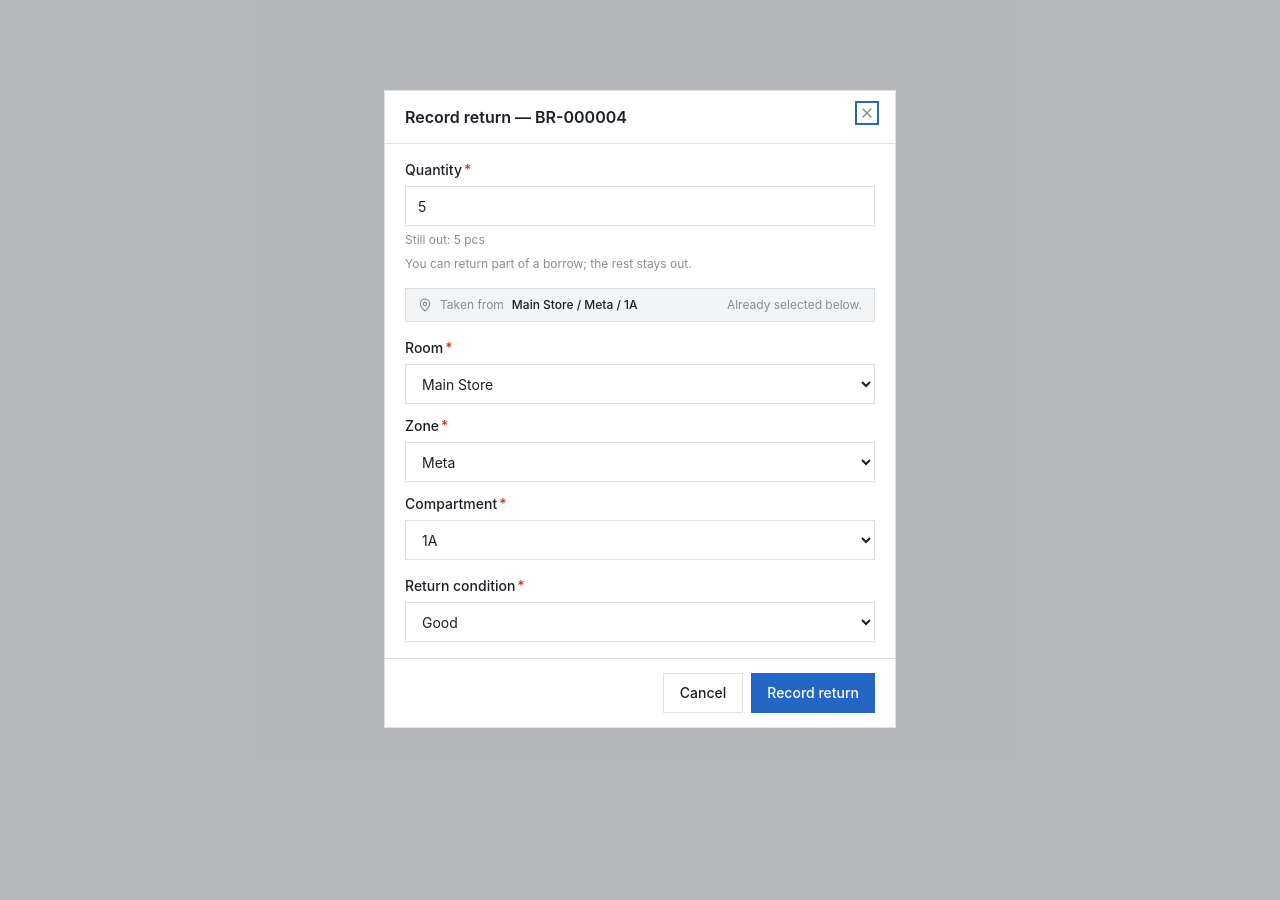
Test: ReturnDialog › offers to undo a reshelve, and undoes it
The image size is (1280, 900).
Select "2B" in the dropdown labelled "Compartment*" at (640, 540), box [405,520,875,560]
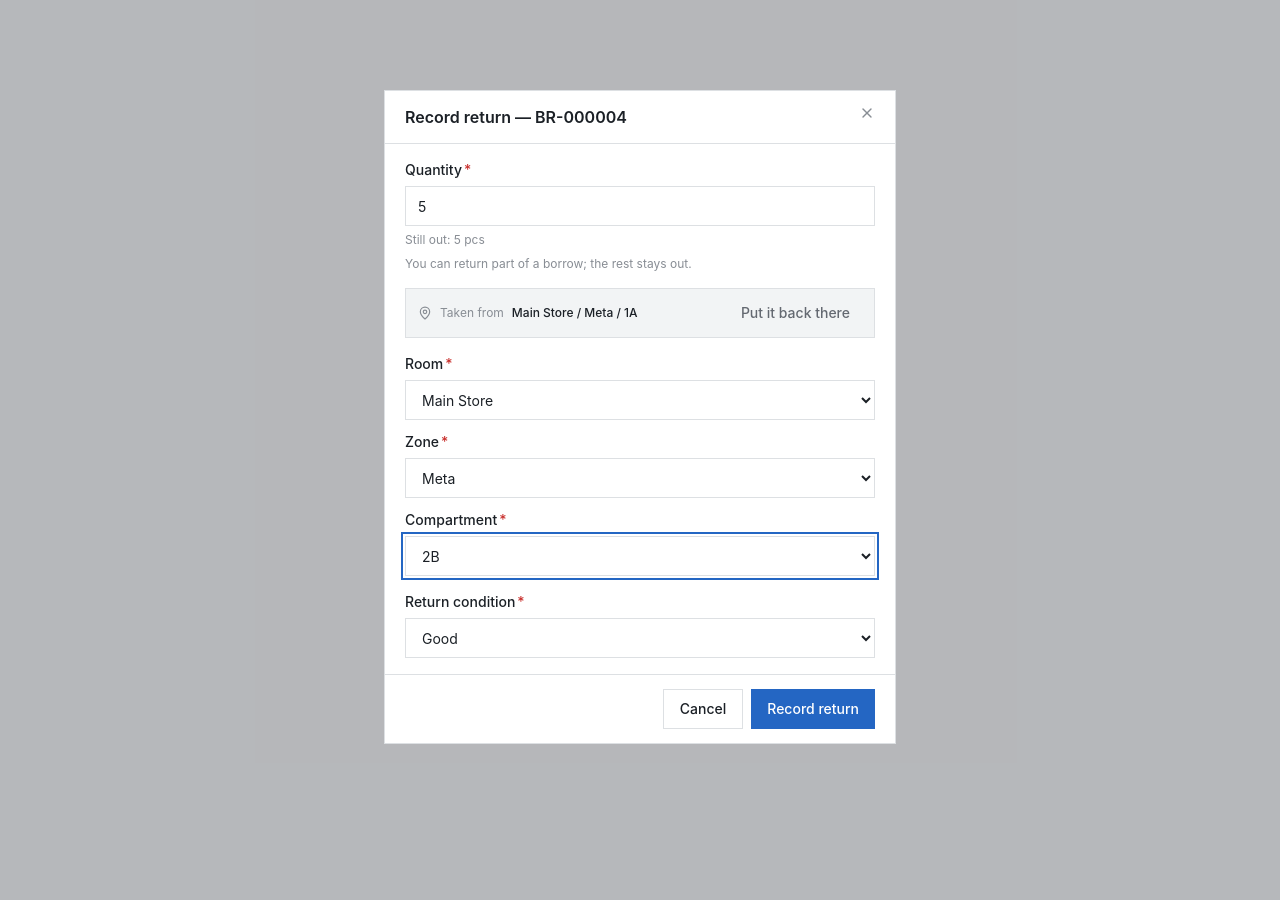
Click the button "Put it back there".
click(795, 313)  # box [729,297,862,329]
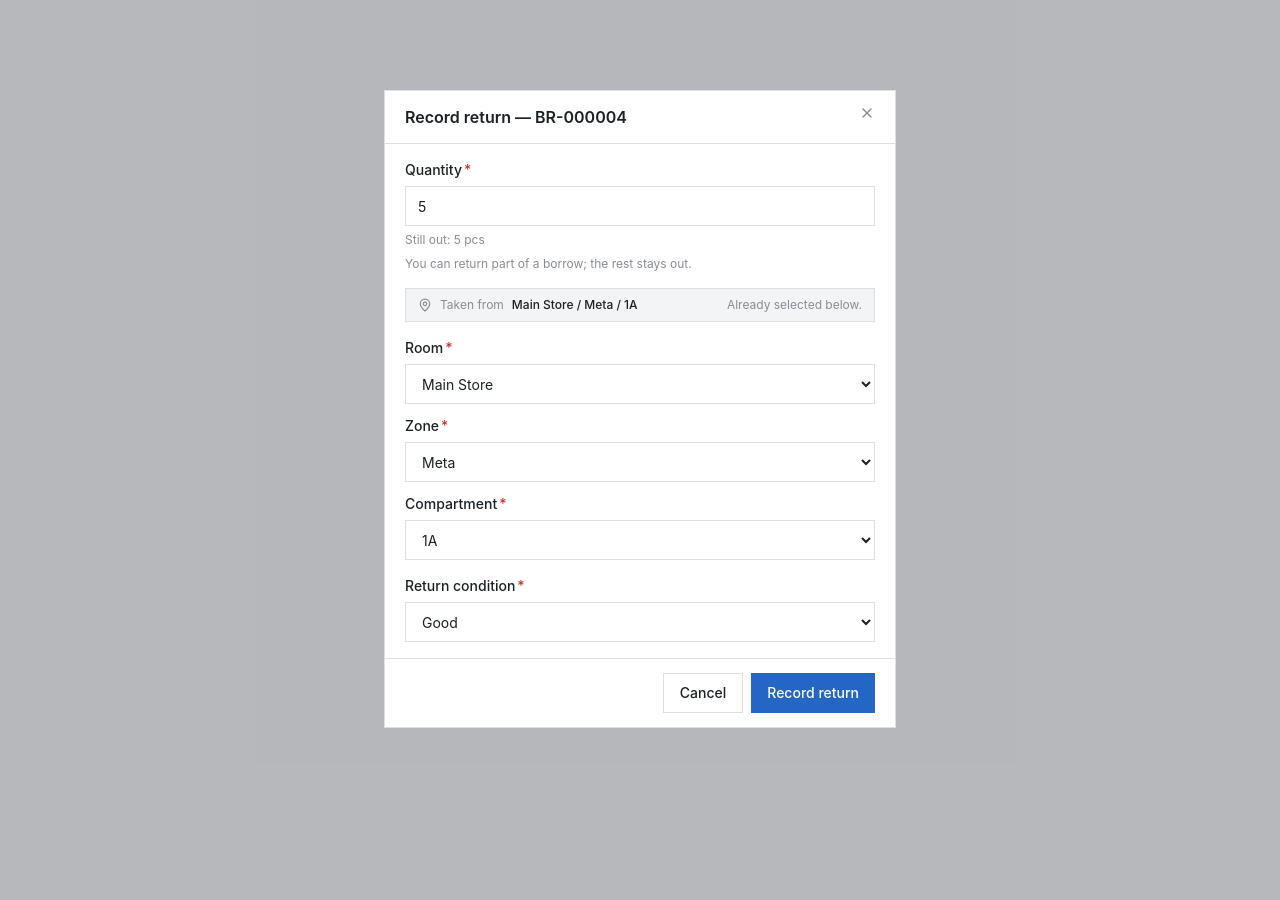
expect the text "Already selected below." is shown: met, box [727,297,862,313]
